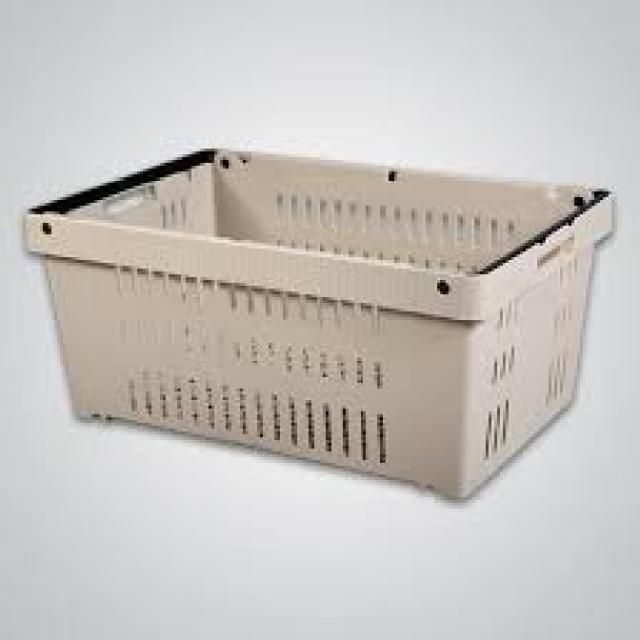basket: (1, 130, 621, 511)
